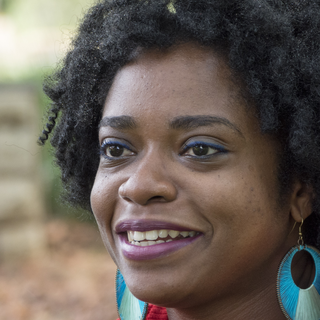eye: (172, 135, 230, 162), (99, 134, 136, 164)
